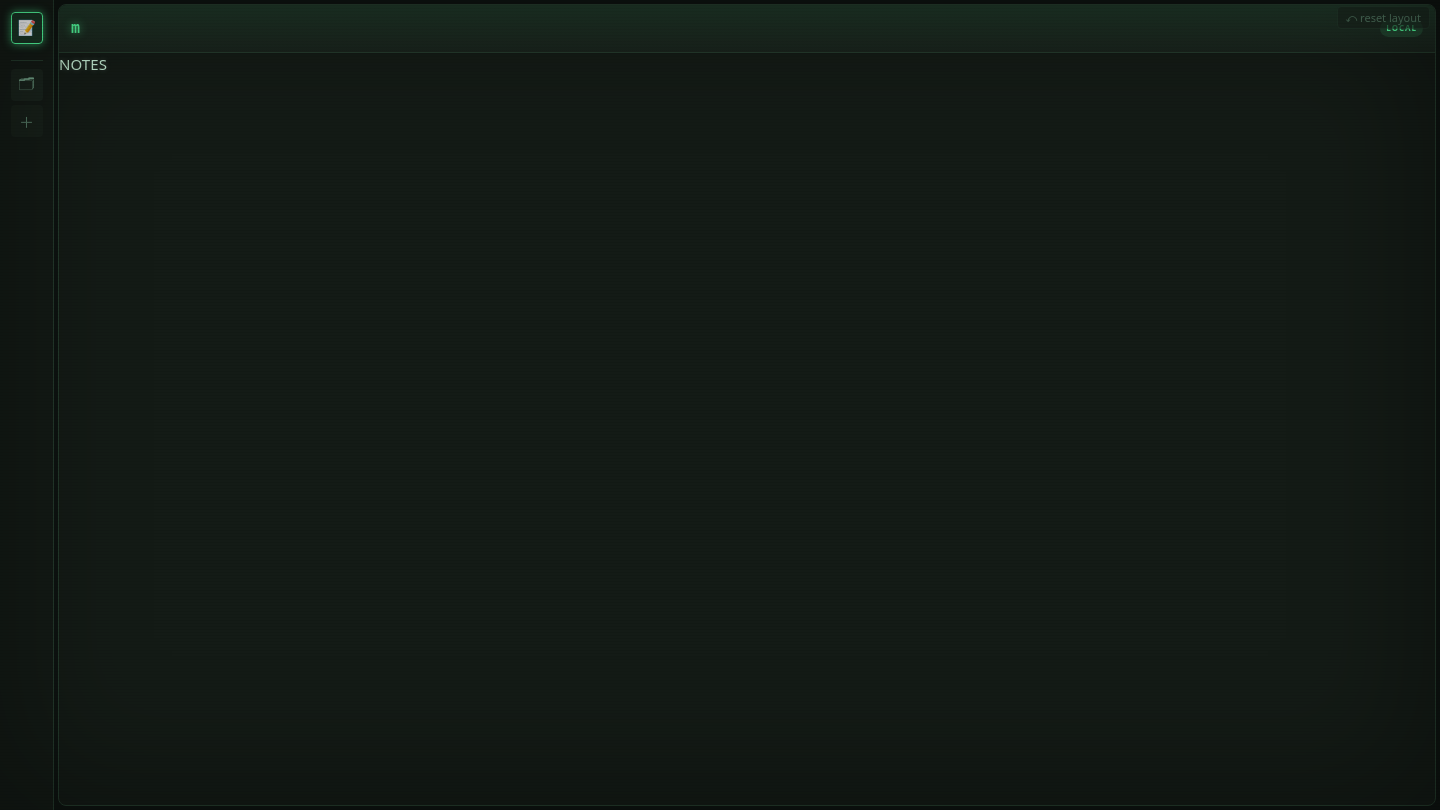
WorkspaceShell with views › switches to a view and renders its panels
The image size is (1440, 810).
Expected: the text "NOTES" is shown, [59,54,107,74]
Click the button named "Editor". click: (26, 85)
box: [10,69,42,101]
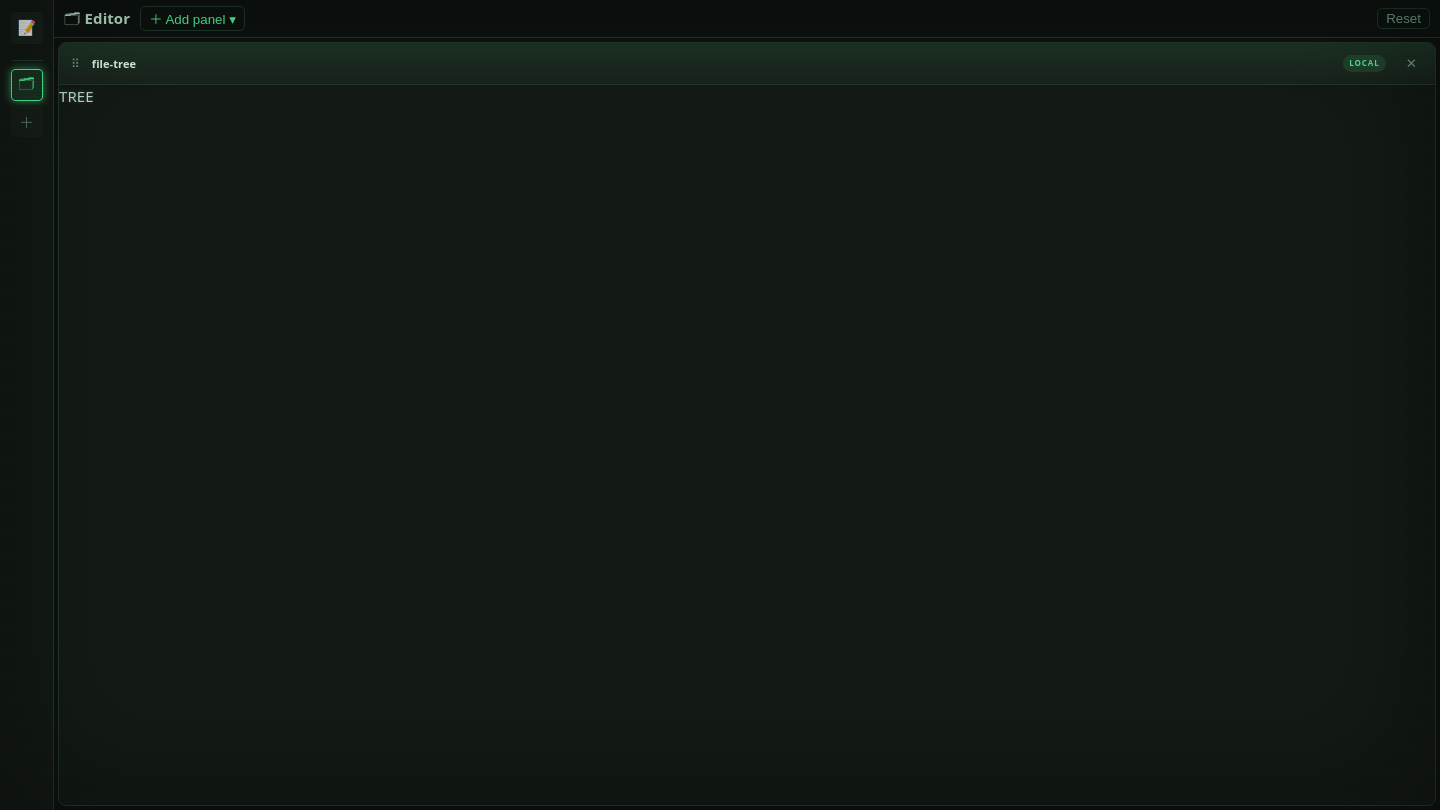
Expected: the text "TREE" is shown, [59,86,94,106]
